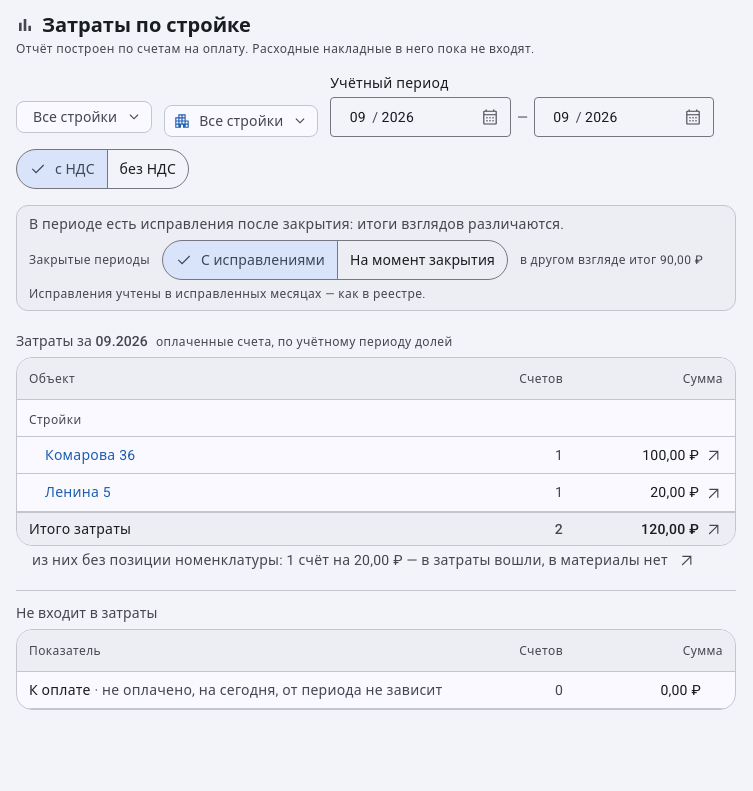
Test case: два взгляда на закрытые периоды › «на момент закрытия» спрашивается словом в адресе; стрелки — только у чисел, равных реестру
Click the tab "На момент закрытия".
click(422, 260)  # box [337,240,508,280]
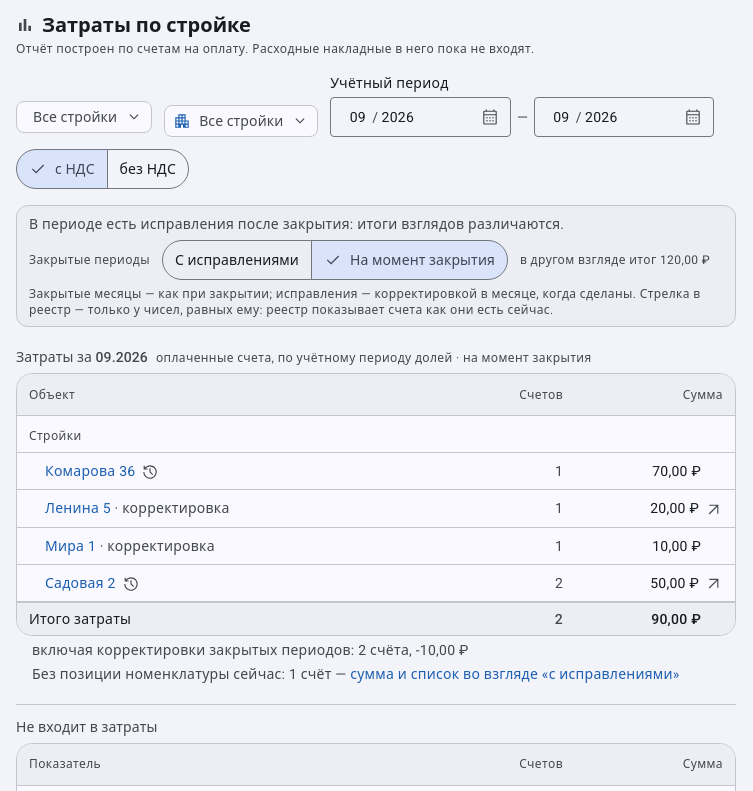
Now the text "· на момент закрытия" is shown, box [453,351,592,365]
Now the text "включая корректировки закрытых периодов: 2 счёта, -10,00 ₽" is shown, box [32,642,469,658]
Now the picture named "Включая корректировки закрытых периодов: 1 счёт, -30,00 ₽" is shown, box [141,463,159,481]
Click the button "сумма и список во взгляде «с исправлениями»".
click(515, 674)  # box [350,664,680,684]
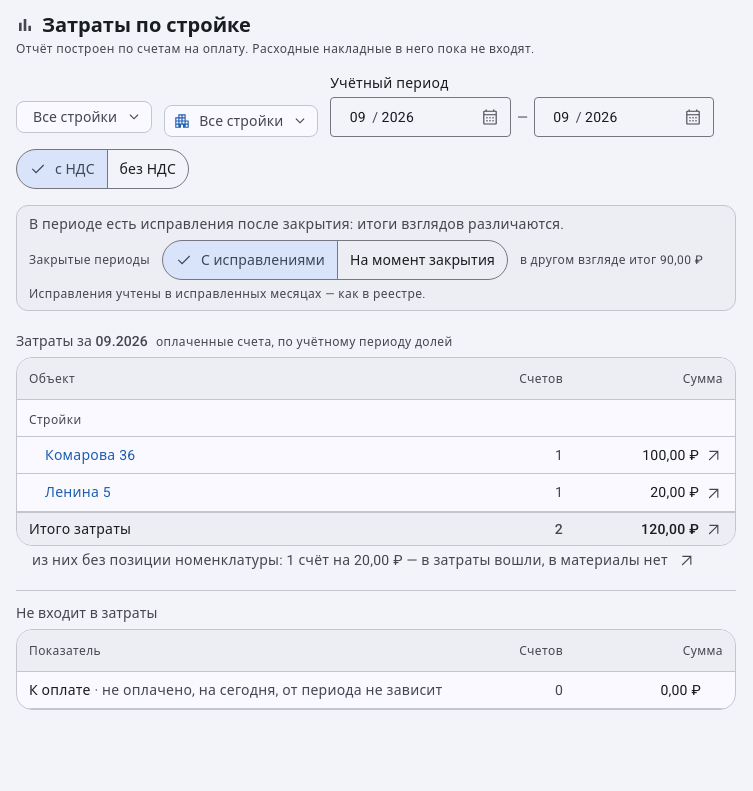
Expected: the tab "С исправлениями" is shown, [162,240,338,280]
Now the text "из них без позиции номенклатуры" is shown, box [32,552,287,568]
